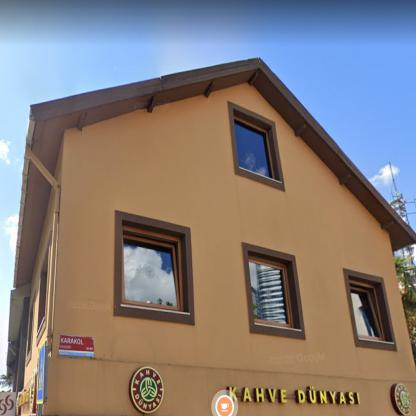window: (123, 237, 178, 309), (249, 258, 290, 326), (235, 118, 273, 178), (350, 285, 385, 340)
